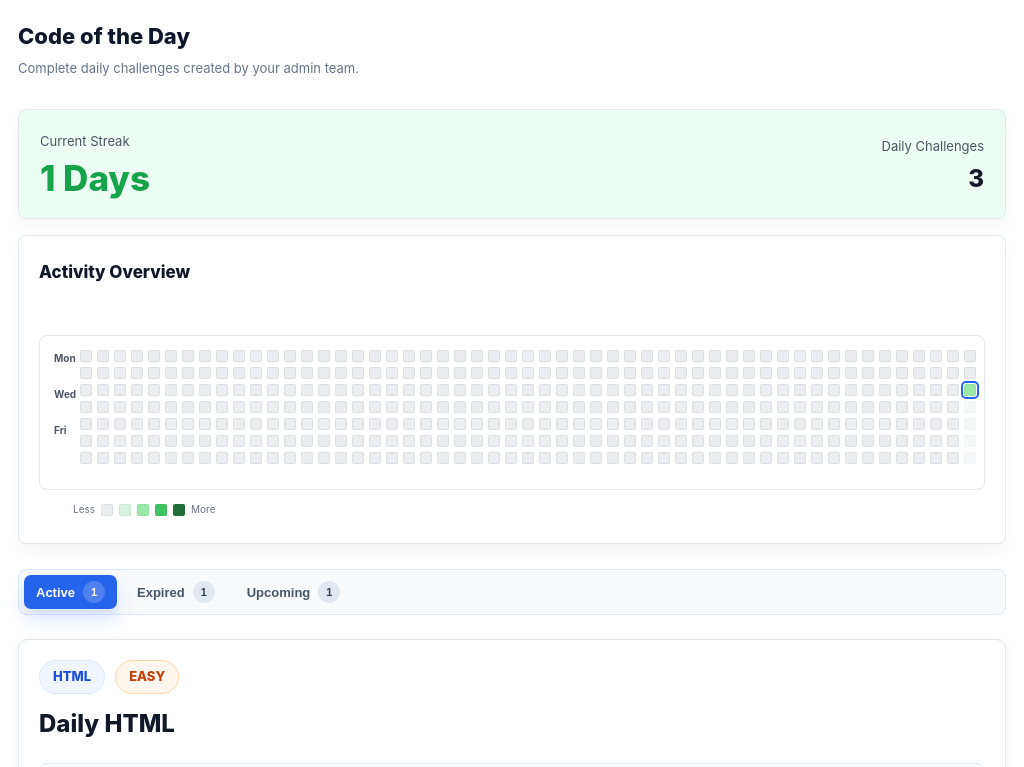
Test: user pages › CodeOfTheDay renders heatmap, active card, and scheduled tabs
Expected: the heading "Code of the Day" is shown, [18,23,190,49]
Expected: the element named "Daily coding activity graph" is shown, [80,350,102,475]
Click the button "Upcoming 1": (294, 592) [235,575,352,609]
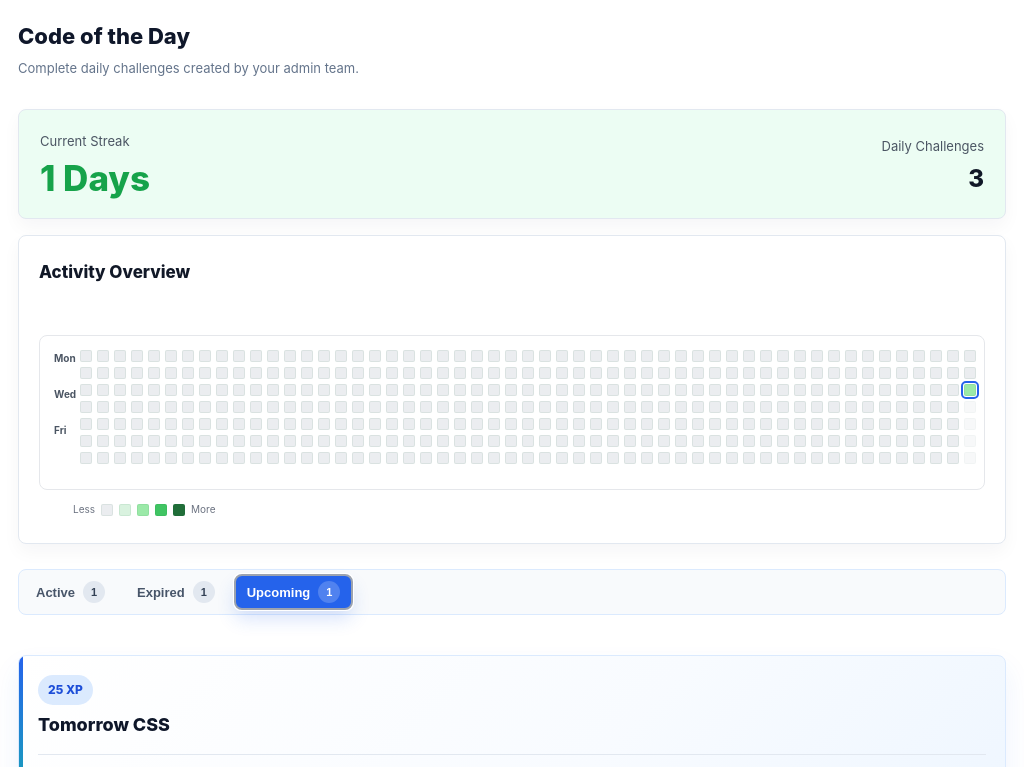
Result: the heading "Tomorrow CSS" is shown at [38,714,170,735]
Click the button "Expired 1": (176, 592) [125,575,227,609]
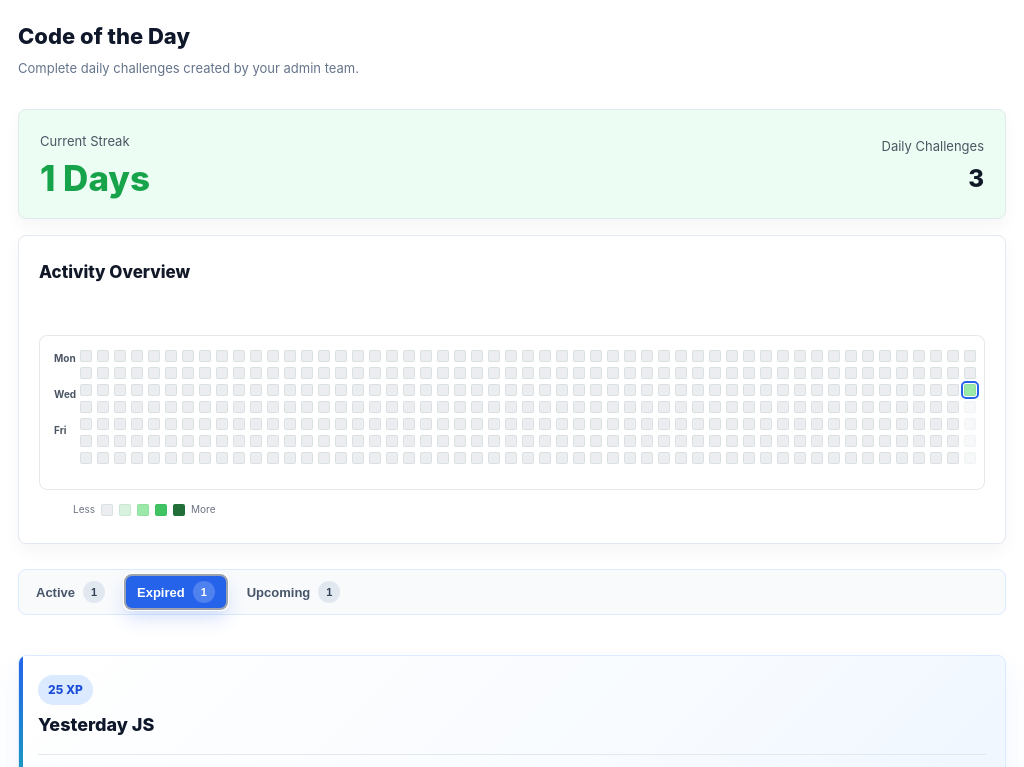
Result: the heading "Yesterday JS" is shown at [38,714,154,735]
